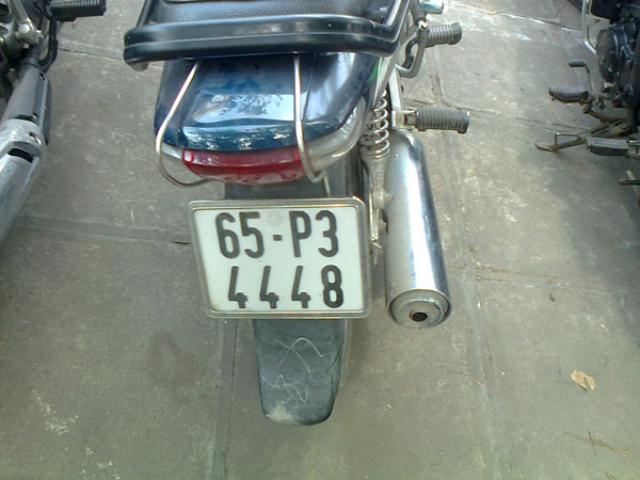plate: (195, 206, 369, 314)
